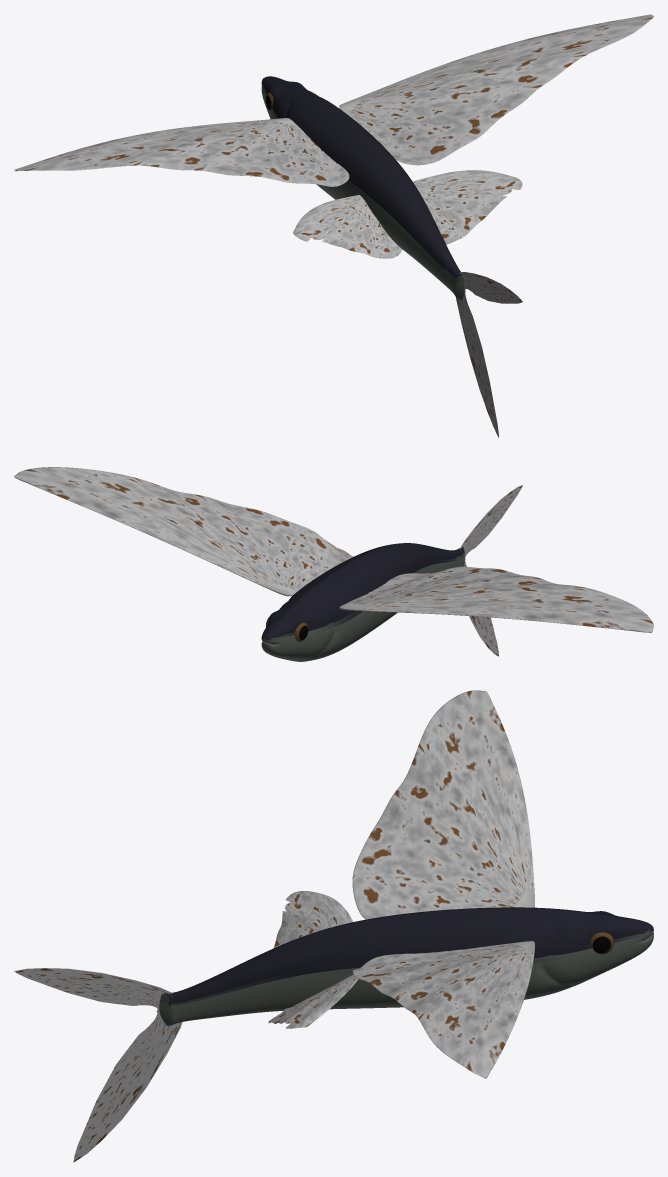
Rendered from flyingfish.glb.
3 renders of one model, top to bottom at view 1: azimuth 30°, elevation 25°; view 2: azimuth 150°, elevation 25°; view 3: azimuth 270°, elevation 25°, orthographic. The views are drawn at different scales.
Parts seen in each view (by area): view 1: Object_5, Object_2, Object_6, Object_7; view 2: Object_5, Object_2, Object_7; view 3: Object_5, Object_2, Object_7, Object_6.
Boxes of the visible parts, x1=… form: Object_5: x1=14, y1=14, x2=653, y2=186; Object_2: x1=261, y1=76, x2=464, y2=300; Object_6: x1=293, y1=170, x2=522, y2=258; Object_7: x1=456, y1=272, x2=522, y2=437; Object_5: x1=14, y1=467, x2=653, y2=632; Object_2: x1=261, y1=543, x2=464, y2=661; Object_7: x1=459, y1=485, x2=522, y2=656; Object_5: x1=352, y1=690, x2=534, y2=1078; Object_2: x1=159, y1=907, x2=653, y2=1026; Object_7: x1=14, y1=968, x2=182, y2=1162; Object_6: x1=268, y1=891, x2=358, y2=1028.
Bounding box in the file's own units: 16.49 × 5.65 × 11.55.
5 materials, 3 textured.
